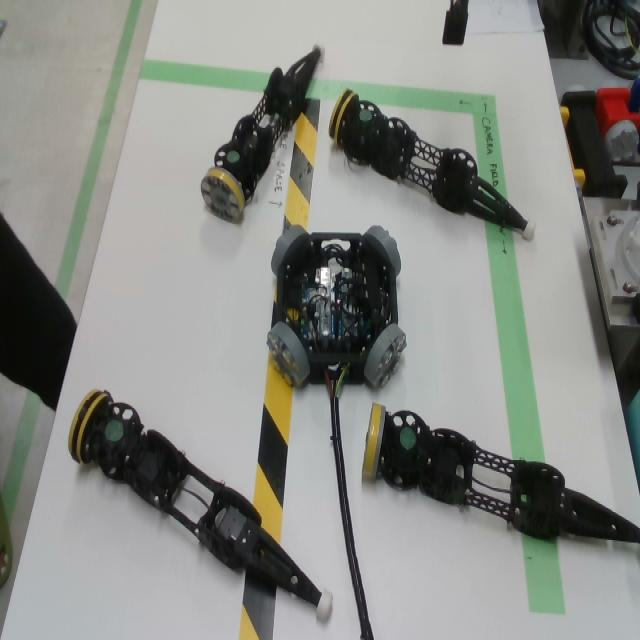body: (276, 232, 398, 385)
body_connector: (266, 321, 310, 388), (364, 324, 407, 389), (271, 225, 310, 276), (362, 225, 401, 276)
leg: (68, 389, 335, 625), (361, 404, 640, 544), (328, 88, 536, 241), (200, 41, 326, 225)
leg_connector: (68, 389, 113, 464), (199, 167, 245, 224), (361, 403, 386, 483), (328, 88, 359, 143)
leg_marker: (105, 420, 124, 443), (399, 427, 417, 451), (359, 109, 373, 123), (227, 151, 241, 164)
